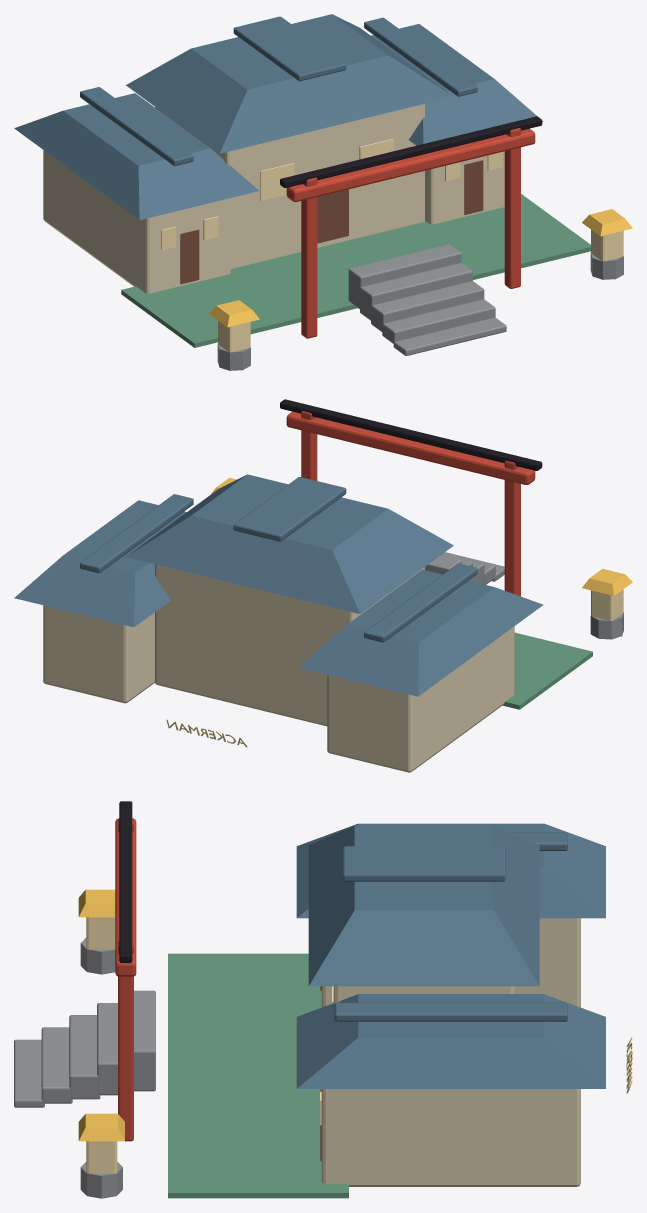
File: 14_ackerman.glb
3 renders of one model, top to bottom at view 1: azimuth 30°, elevation 25°; view 2: azimuth 150°, elevation 25°; view 3: azimuth 270°, elevation 25°, orthographic. The views are drawn at different scales.
Parts seen in each view (by area): view 1: main_body.003; view 2: main_body.003; view 3: main_body.003.
Part boxes in pixels (<box>): main_body.003: <box>14,14,632,370</box>; main_body.003: <box>14,399,632,772</box>; main_body.003: <box>14,801,605,1198</box>.
Size of the model in its own units: 11.48 by 4.81 by 12.33.
